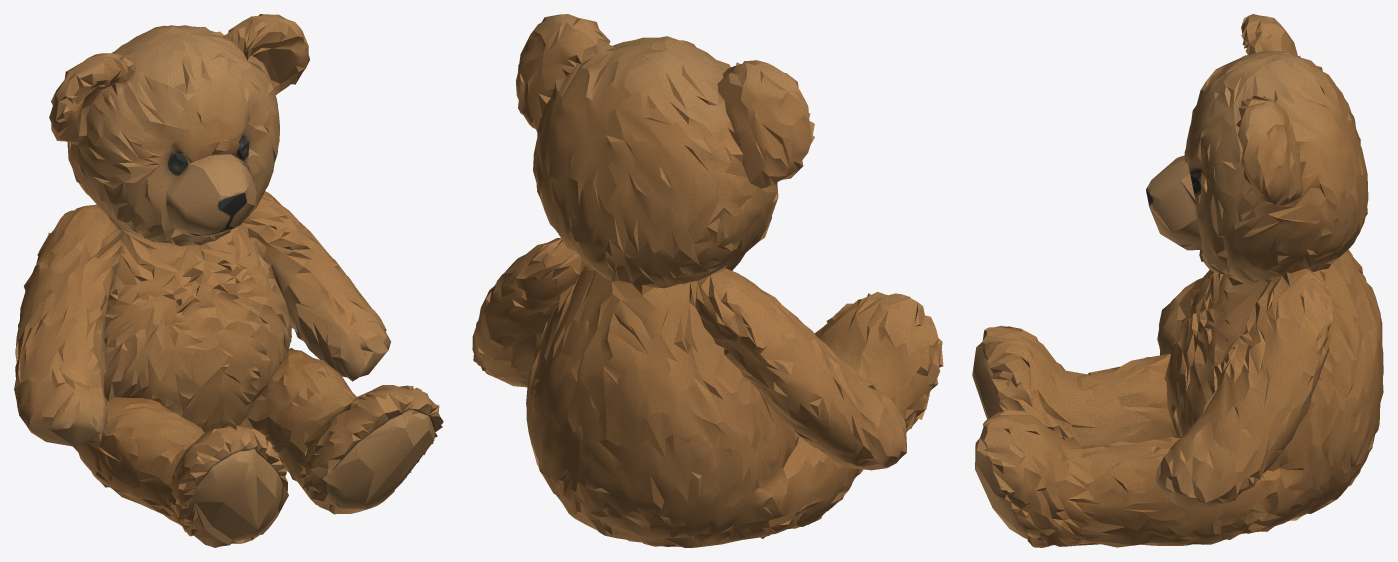
The model's file is orsetto_N.glb.
The picture shows the model from 3 angles, left to right: view 1: azimuth 30°, elevation 25°; view 2: azimuth 150°, elevation 25°; view 3: azimuth 270°, elevation 25°; orthographic projection. The views are drawn at different scales.
Bounding box in the file's own units: 1.71 × 1.9 × 1.59.
Materials: 1 (1 with a texture image).
